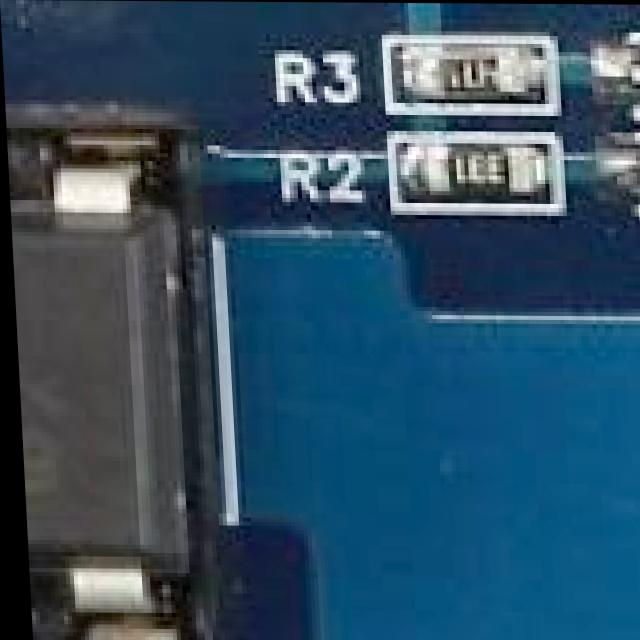IC: (4, 96, 230, 640)
diode: (598, 43, 640, 112), (609, 120, 640, 200)
resistor: (398, 54, 542, 113), (430, 150, 548, 209)
